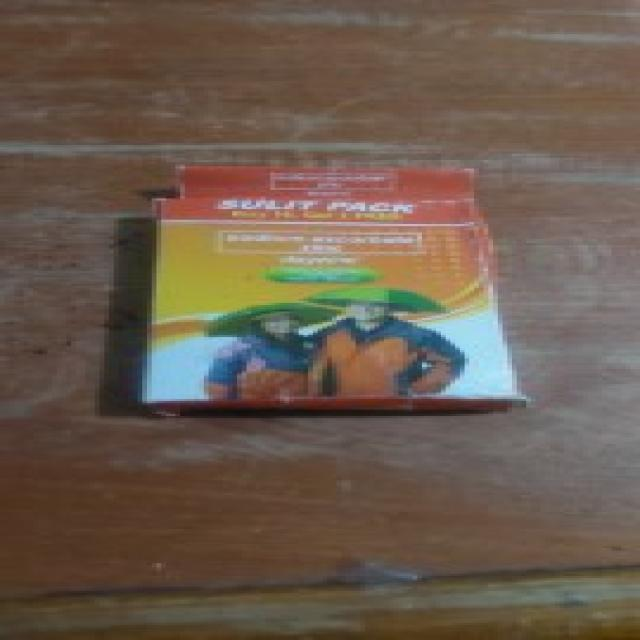Cacat: (148, 165, 488, 418)
